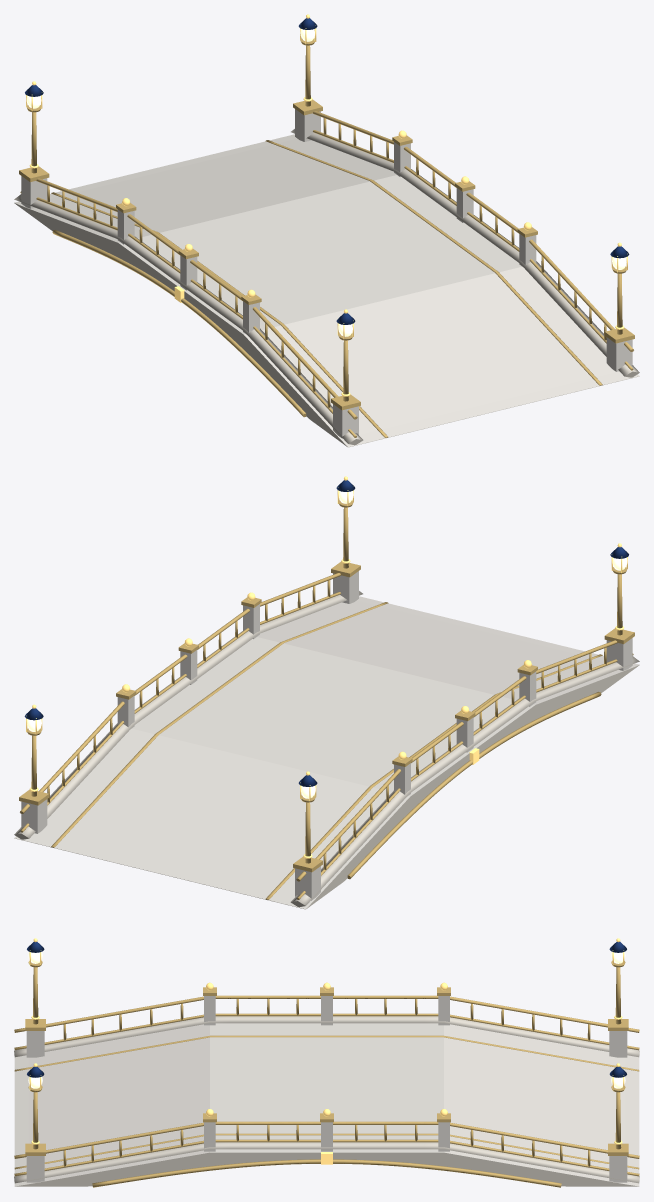
File: city_bridge.glb
The picture shows the model from 3 angles, top to bottom: view 1: azimuth 30°, elevation 25°; view 2: azimuth 150°, elevation 25°; view 3: azimuth 270°, elevation 25°; orthographic projection. The views are drawn at different scales.
Parts seen in each view (by area): view 1: CityBridge; view 2: CityBridge; view 3: CityBridge.
Part boxes in pixels (x1,y1,x2,y2): CityBridge: [14, 14, 639, 447]; CityBridge: [14, 476, 639, 909]; CityBridge: [14, 938, 639, 1187].
Size of the model in its own units: 11.56 by 4.72 by 22.45.
